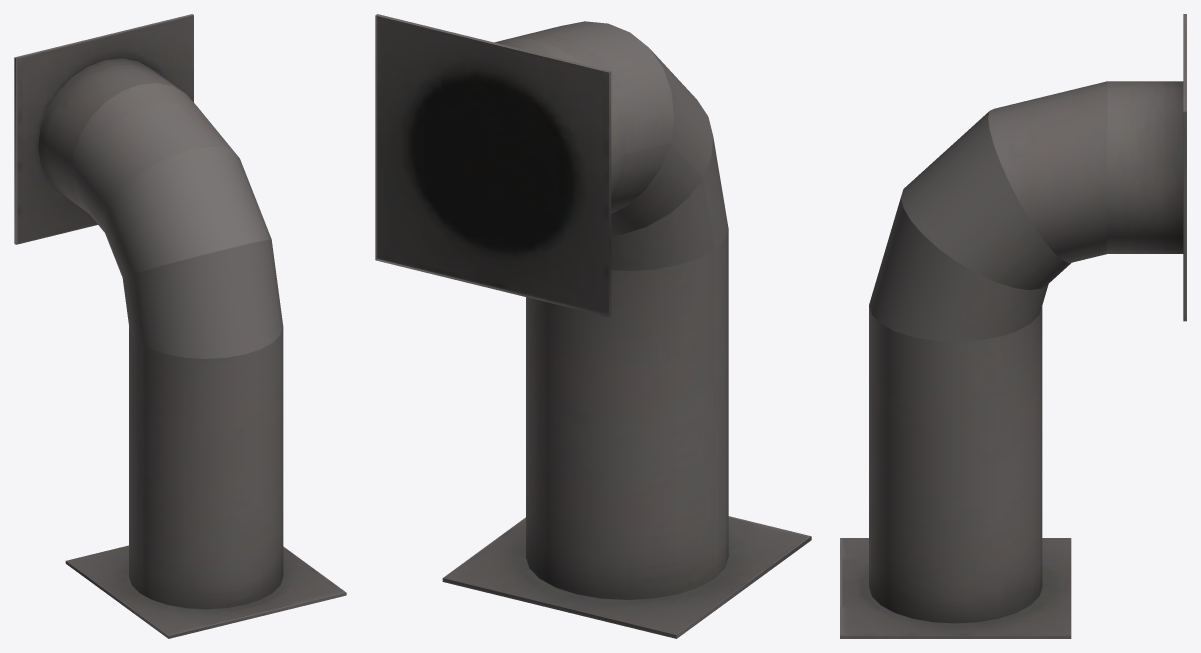
The picture shows the model from 3 angles, left to right: view 1: azimuth 30°, elevation 25°; view 2: azimuth 150°, elevation 25°; view 3: azimuth 270°, elevation 25°; orthographic projection. The views are drawn at different scales.
Parts seen in each view (by area): view 1: body0_model0_lod0_mesh0; view 2: body0_model0_lod0_mesh0; view 3: body0_model0_lod0_mesh0.
Part boxes in pixels (bbox=[...]): body0_model0_lod0_mesh0: bbox=[14, 14, 346, 638]; body0_model0_lod0_mesh0: bbox=[375, 14, 811, 638]; body0_model0_lod0_mesh0: bbox=[840, 14, 1186, 638].
Bounding box in the file's own units: 64 × 161 × 96.
Materials: 1 (1 with a texture image).
